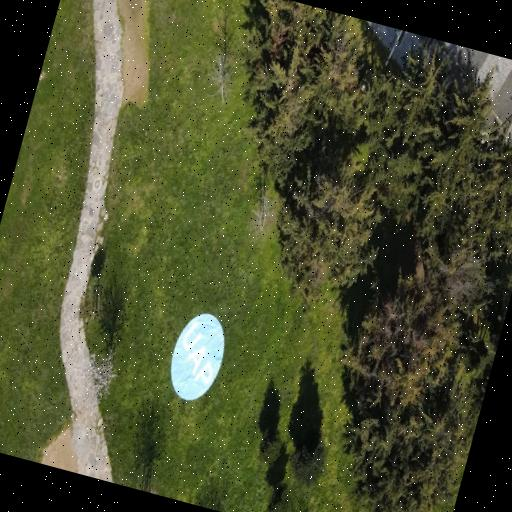UAP: (171, 313, 223, 399)
